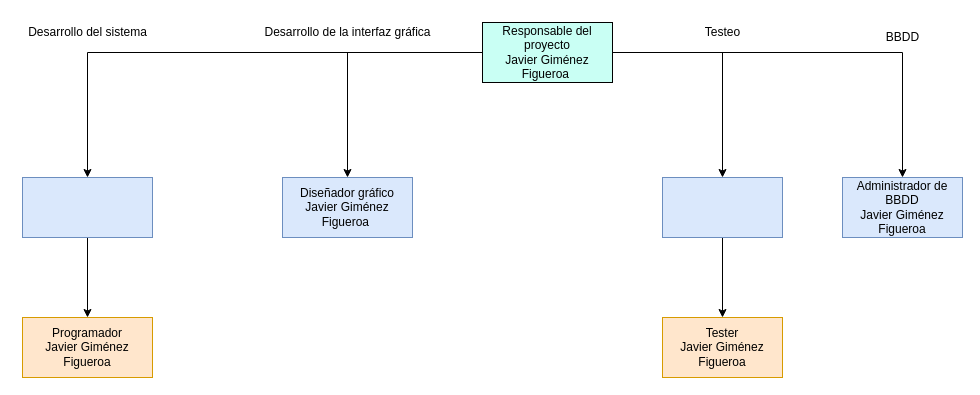
Image size: 980x395. Some labels were removed from this diagram. The centre of each missing label's shape, as x and y in pixels:
"Analista programador Javier Giménez Figueroa" goes at [87,207].
"Revisión técnica Domingo Savio Rodriguez Baena" goes at [722,207].
